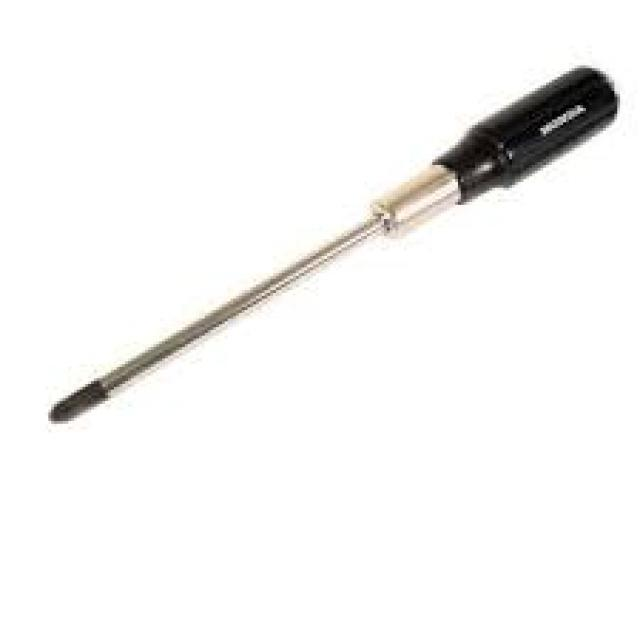screwdriver: (45, 66, 626, 430)
